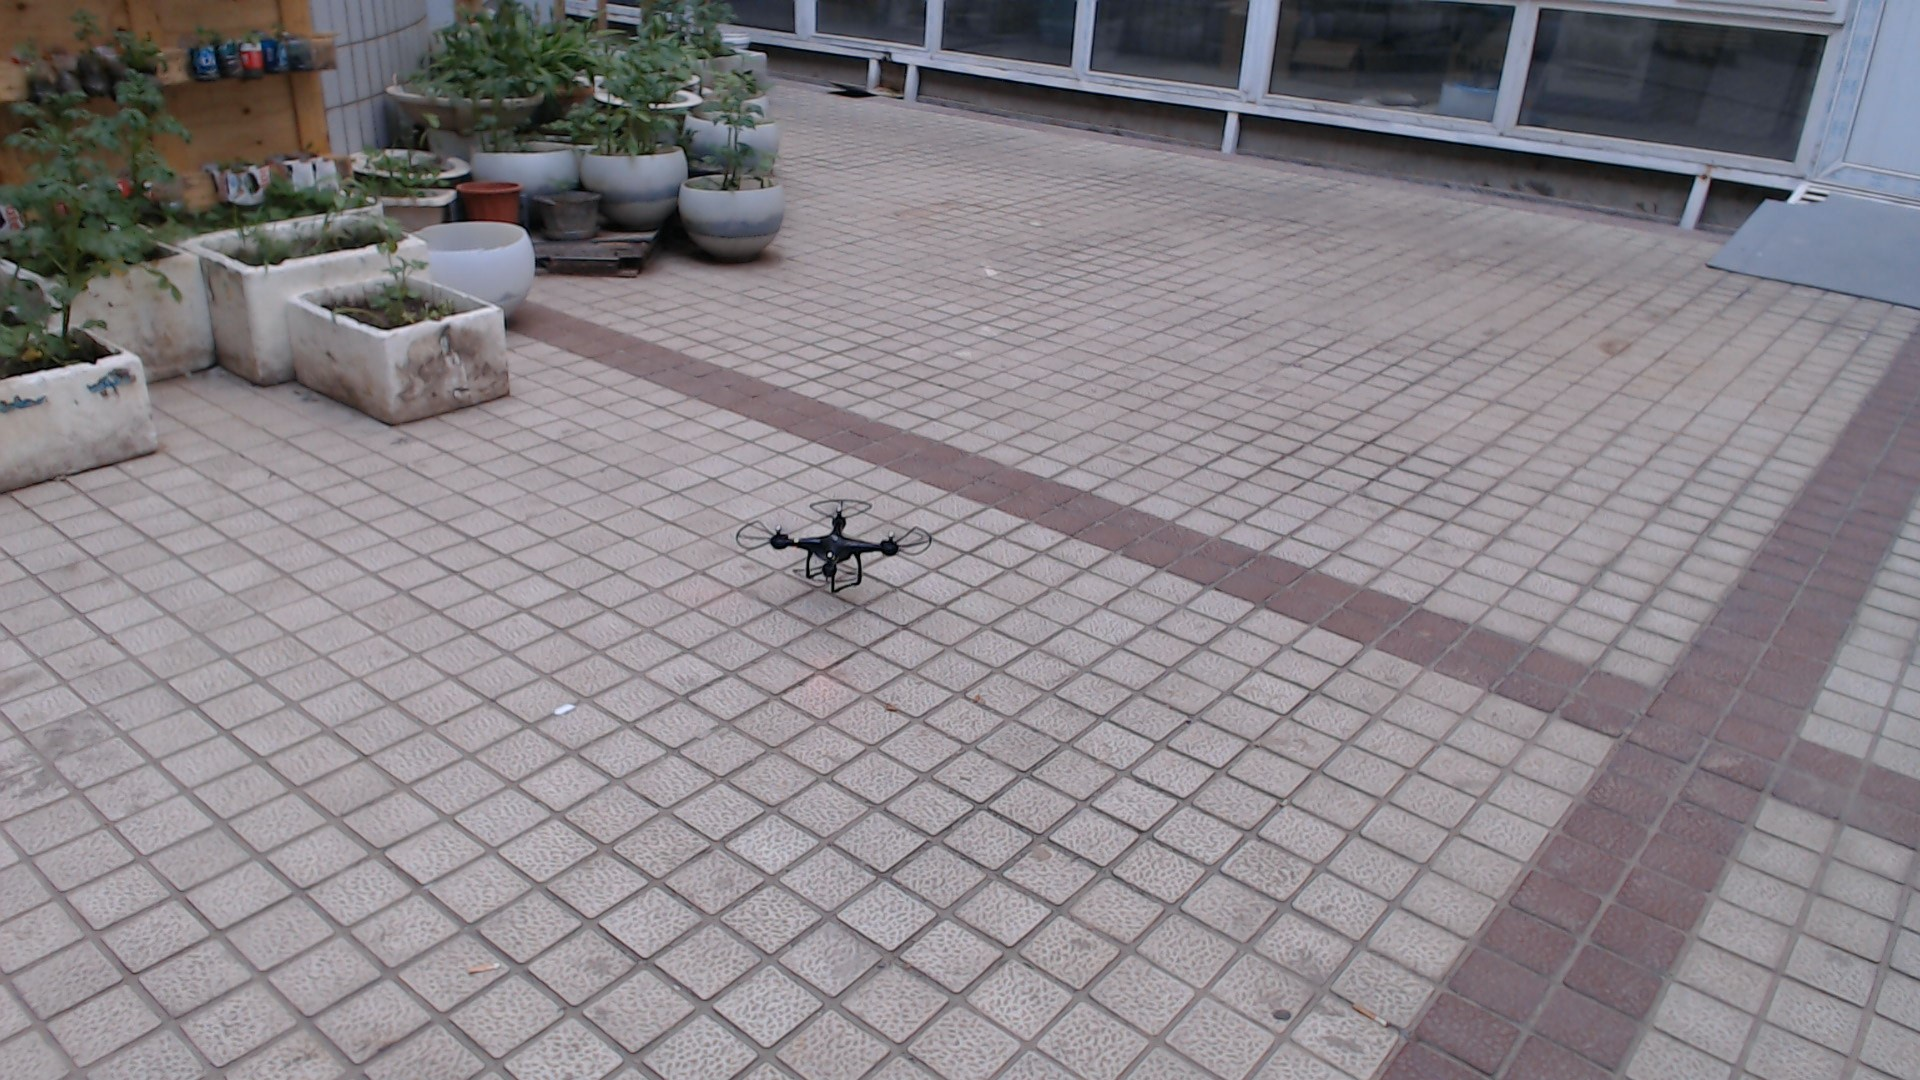drone: (733, 493, 931, 596)
